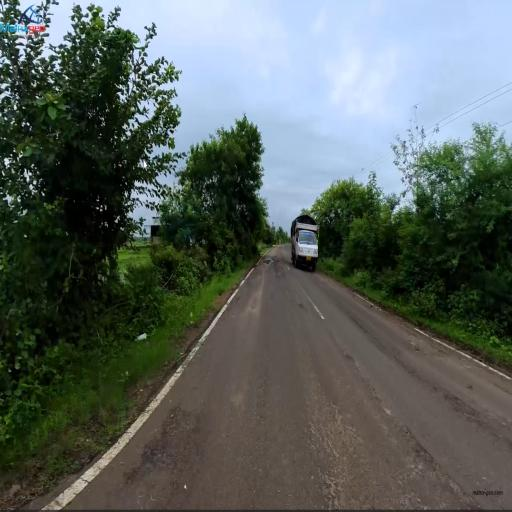ravelling: (302, 384, 427, 495), (150, 412, 225, 495)
